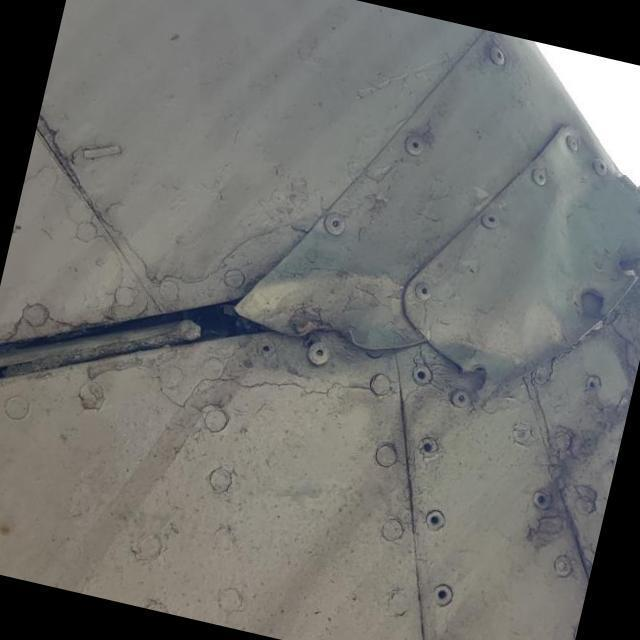Rupture: (281, 303, 377, 360)
